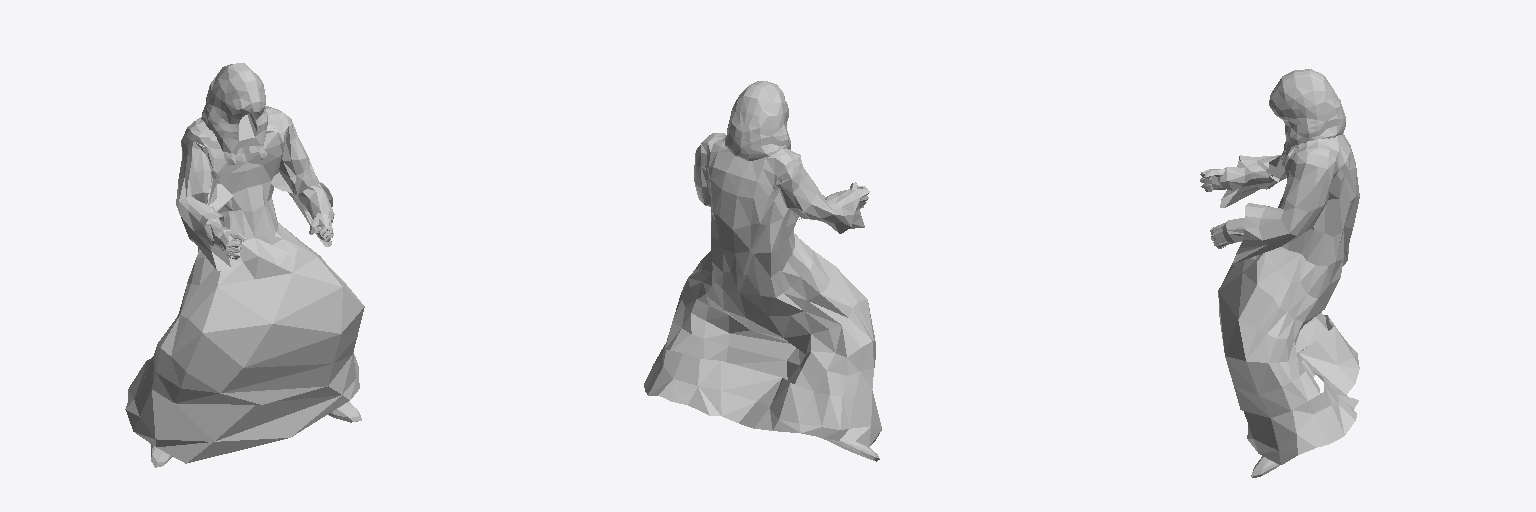
The model's file is Rider_Animate_Grab_Glide_11.obj.
3 renders of one model, left to right at view 1: azimuth 30°, elevation 25°; view 2: azimuth 150°, elevation 25°; view 3: azimuth 270°, elevation 25°, orthographic.
Visible parts, largest first — view 1: dm_nazgulrobe_ride_241108; view 2: dm_nazgulrobe_ride_241108; view 3: dm_nazgulrobe_ride_241108.
Part boxes in pixels (left/top/right/bottom): dm_nazgulrobe_ride_241108: left=125, top=63, right=364, bottom=467; dm_nazgulrobe_ride_241108: left=644, top=81, right=881, bottom=461; dm_nazgulrobe_ride_241108: left=1200, top=69, right=1359, bottom=477.
Bounding box in the file's own units: 0.4272 × 0.6677 × 0.2645.